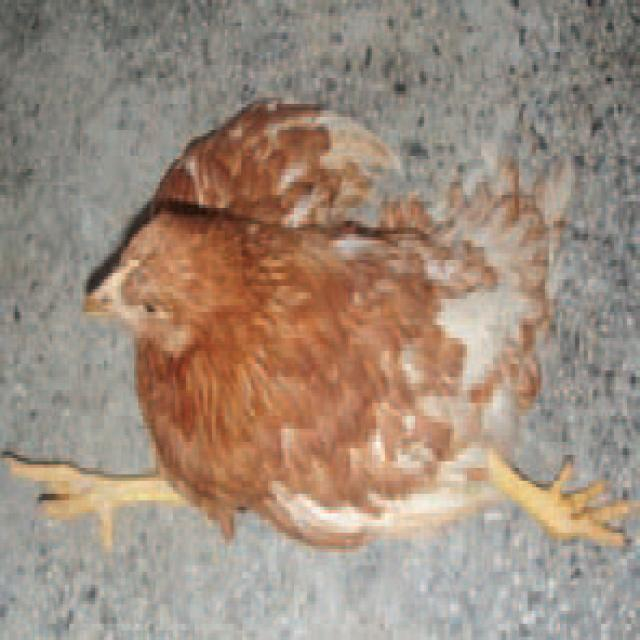AbNormal: (0, 95, 635, 554)
